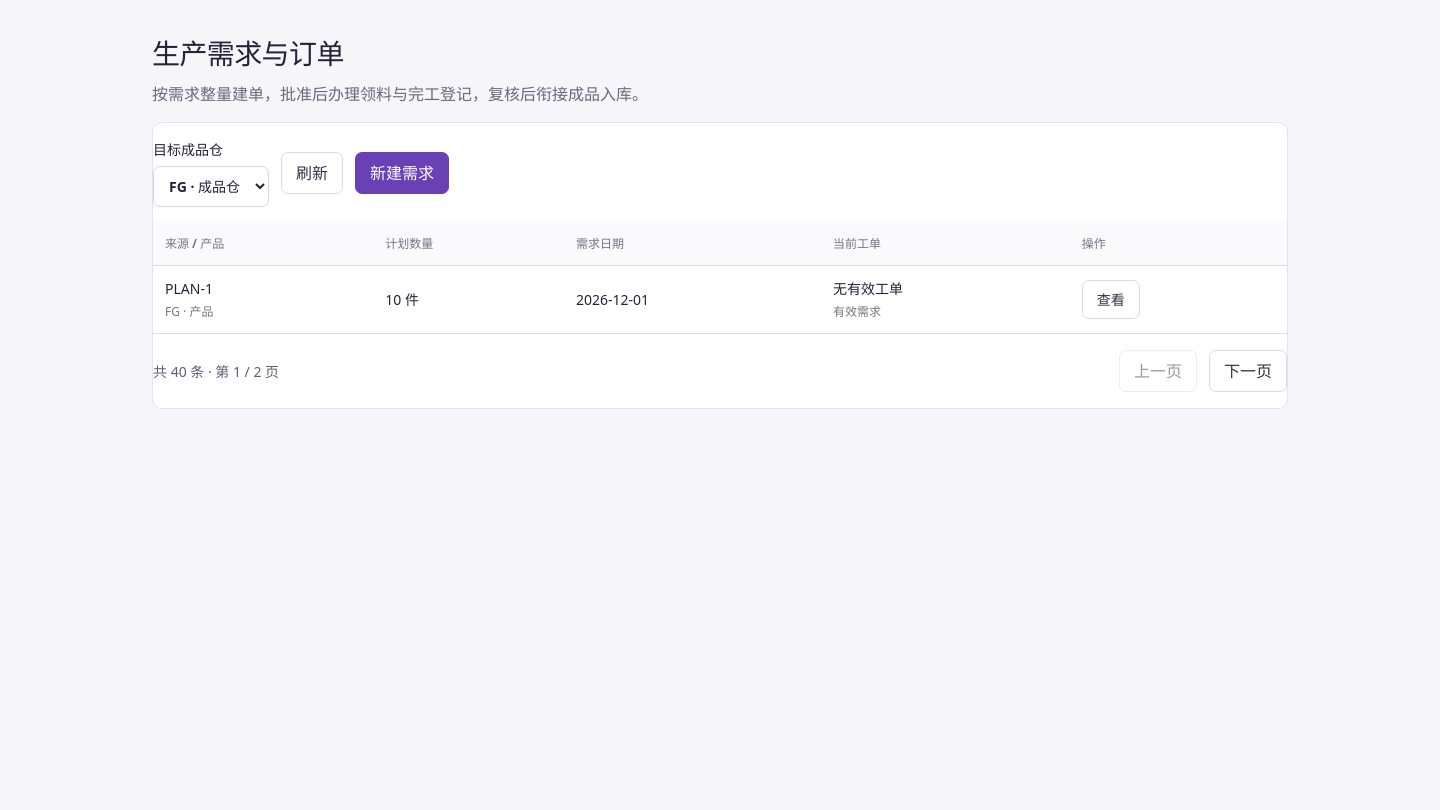
Test: returns from production detail without losing the list page or refetching
Click the button "下一页".
click(1248, 371)  # box [1209,350,1287,392]
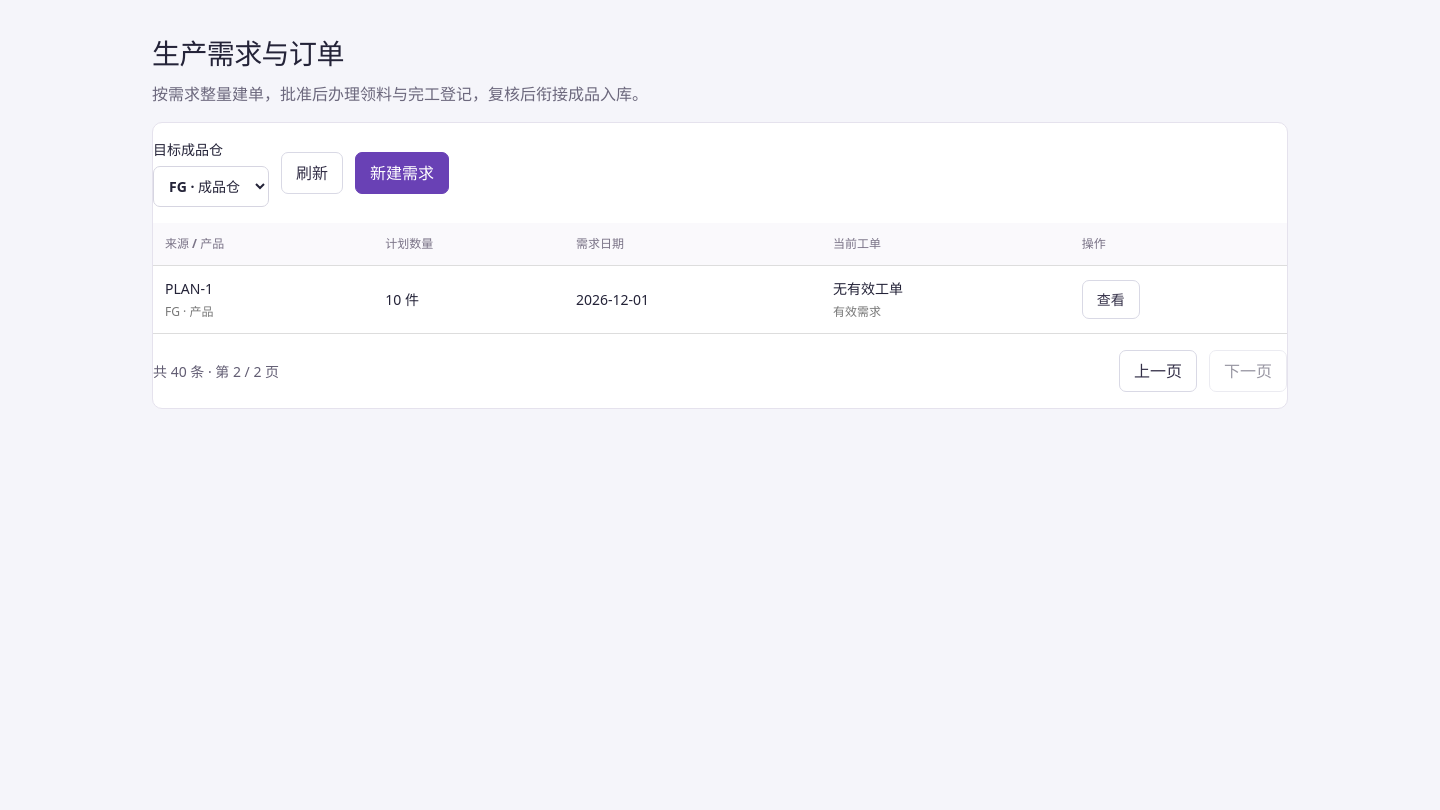
Click the button "查看".
click(1111, 300)  # box [1082,280,1140,319]
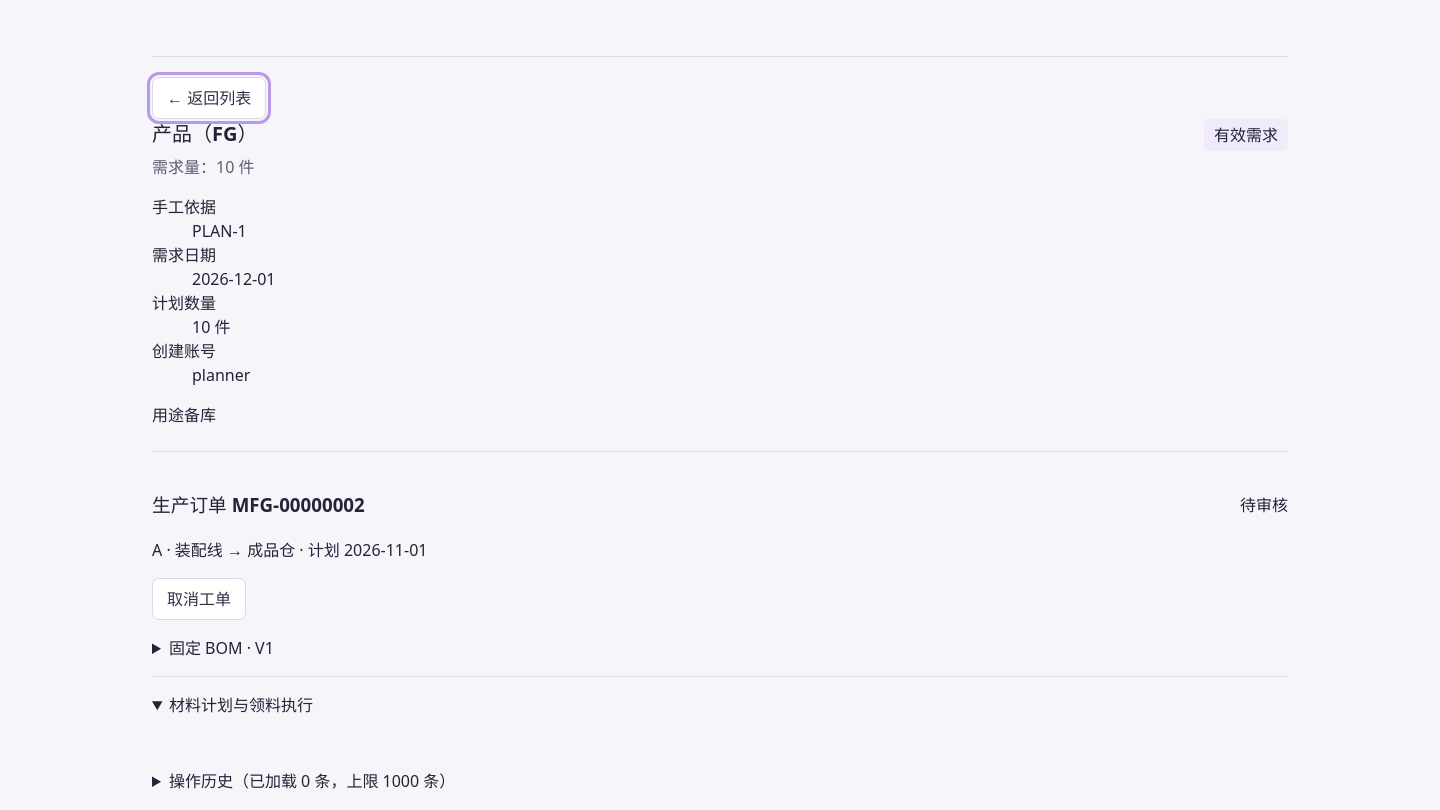
Expected: the element named "生产需求详情" shows "MFG-00000002", [152,492,365,517]
Click the button with class "back-to-list".
click(209, 98)  # box [152,77,266,119]
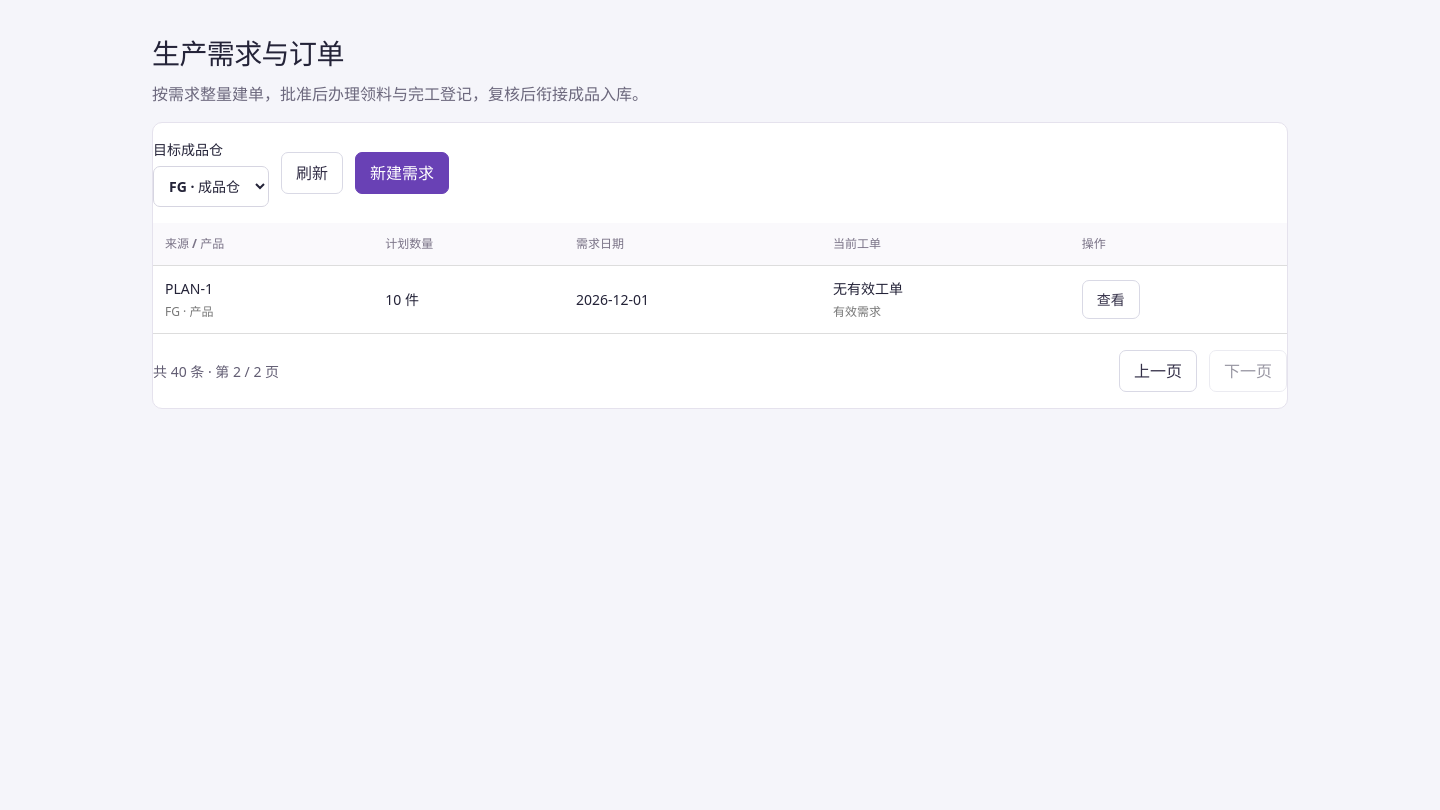
Expected: the navigation bar with class "result-pager" shows "第 2 / 2 页", [153,362,279,380]
